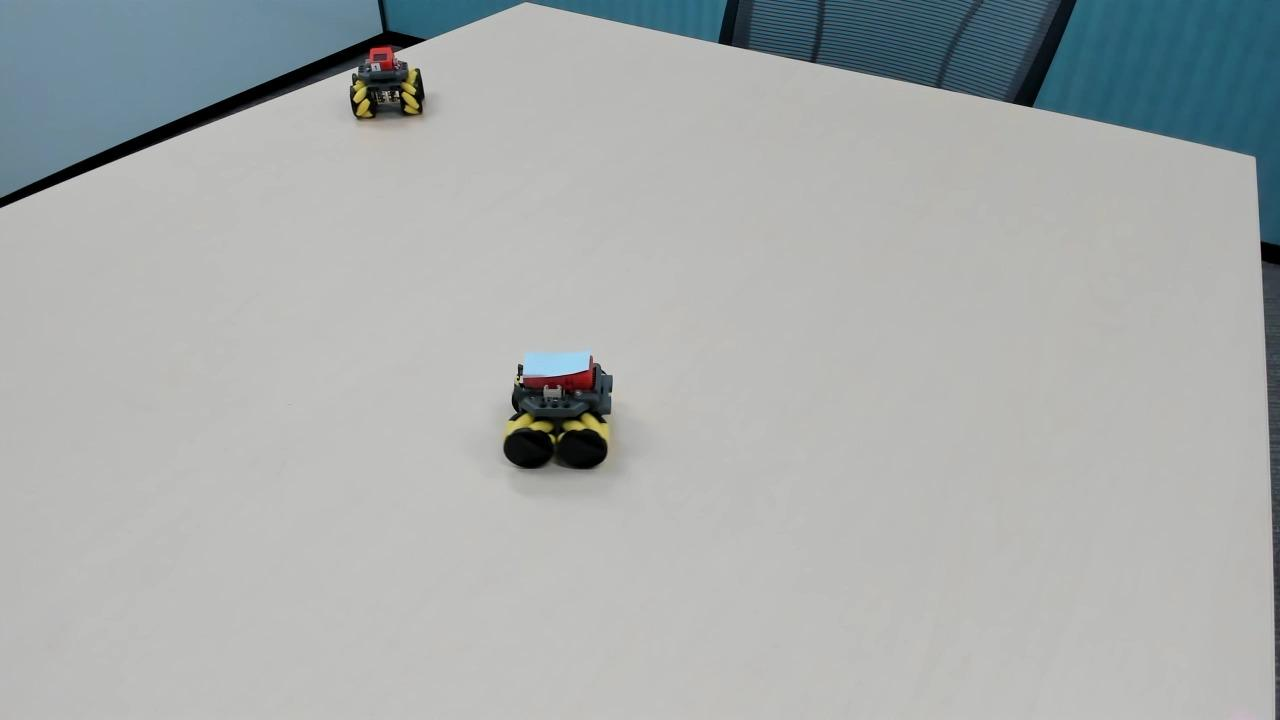B-Robot: (494, 344, 631, 485)
R-Robot: (341, 41, 434, 135)
